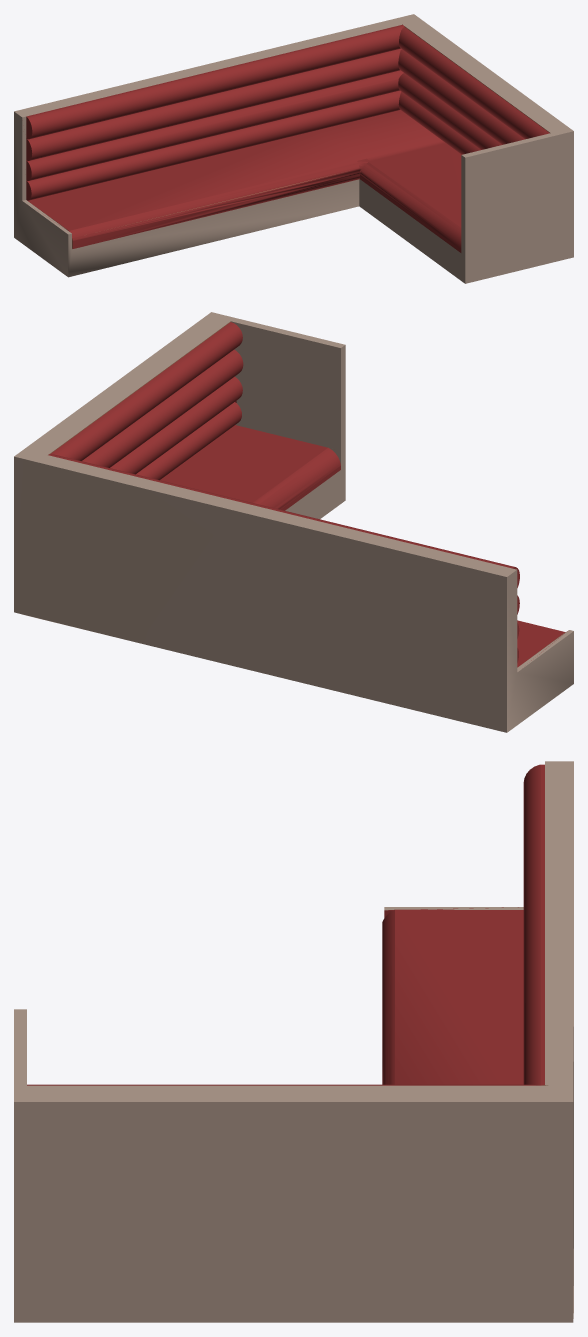
The model's file is sofa_bowling2.fbx.
The picture shows the model from 3 angles, top to bottom: view 1: azimuth 30°, elevation 25°; view 2: azimuth 150°, elevation 25°; view 3: azimuth 270°, elevation 25°; orthographic projection. The views are drawn at different scales.
Parts seen in each view (by area): view 1: Layer0_001; view 2: Layer0_001; view 3: Layer0_001.
Part boxes in pixels (box(x1,y1,x2,y2)): Layer0_001: box(14, 14, 573, 283); Layer0_001: box(14, 312, 573, 732); Layer0_001: box(14, 761, 573, 1322).
Size of the model in its own units: 310 by 93.7 by 215.
